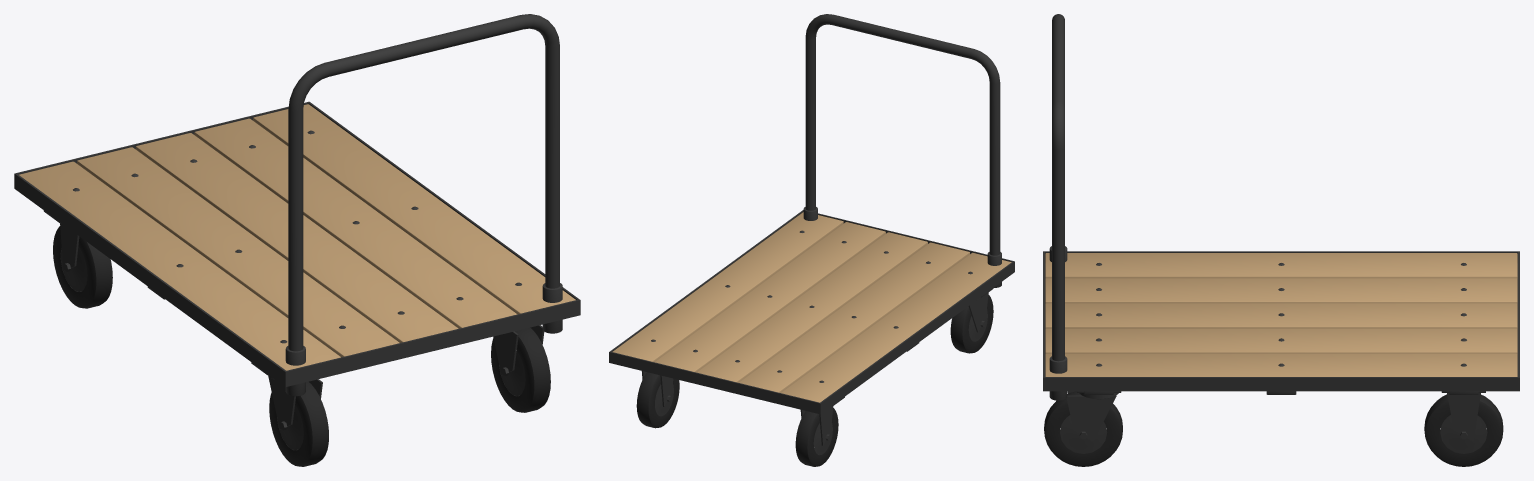
The model's file is Kit_PlatformTruck.fbx.
The picture shows the model from 3 angles, left to right: view 1: azimuth 30°, elevation 25°; view 2: azimuth 150°, elevation 25°; view 3: azimuth 270°, elevation 25°; orthographic projection. The views are drawn at different scales.
Parts seen in each view (by area): view 1: Kit_PlatformTruck_LOD0; view 2: Kit_PlatformTruck_LOD0; view 3: Kit_PlatformTruck_LOD0.
Boxes of the visible parts, bbox=[...] form: Kit_PlatformTruck_LOD0: bbox=[14, 14, 580, 466]; Kit_PlatformTruck_LOD0: bbox=[609, 14, 1014, 466]; Kit_PlatformTruck_LOD0: bbox=[1043, 14, 1519, 466].
Size of what is drawn, in the model's own units: 0.7716 by 1.02 by 1.23.
